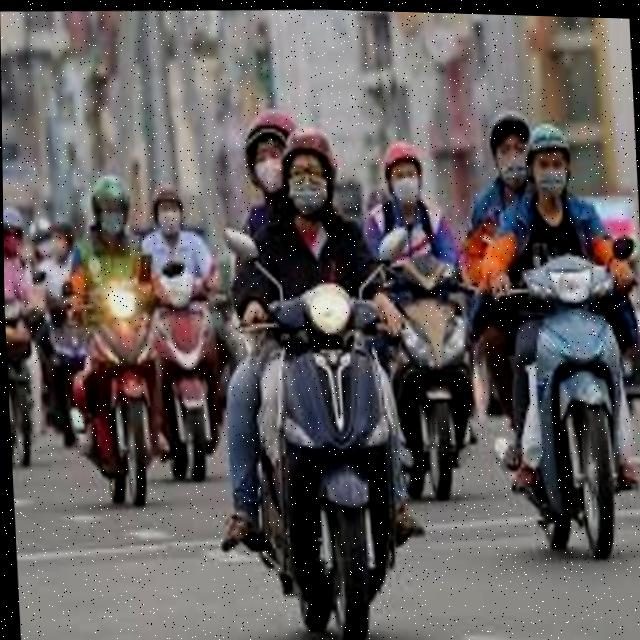motorcycle: (211, 223, 419, 640), (489, 228, 640, 562), (368, 247, 490, 509), (62, 262, 180, 521), (126, 254, 228, 486)
